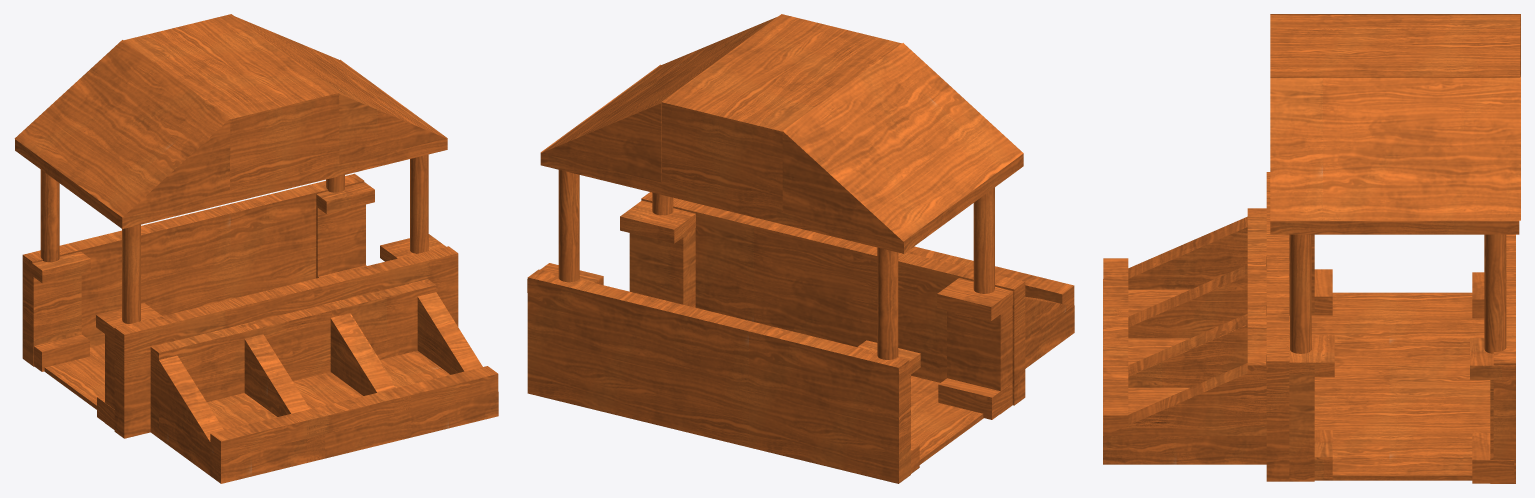
File: stand.glb
3 views of the same model, side by side, from view 1: azimuth 30°, elevation 25°; view 2: azimuth 150°, elevation 25°; view 3: azimuth 270°, elevation 25° (orthographic). The views are drawn at different scales.
Parts seen in each view (by area): view 1: stand; view 2: stand; view 3: stand.
Part boxes in pixels (left/top/right/bottom): stand: left=14, top=14, right=498, bottom=483; stand: left=527, top=14, right=1074, bottom=483; stand: left=1103, top=14, right=1520, bottom=483.
Bounding box in the file's own units: 13.26 × 10.95 × 12.21.
2 materials, 2 textured.
